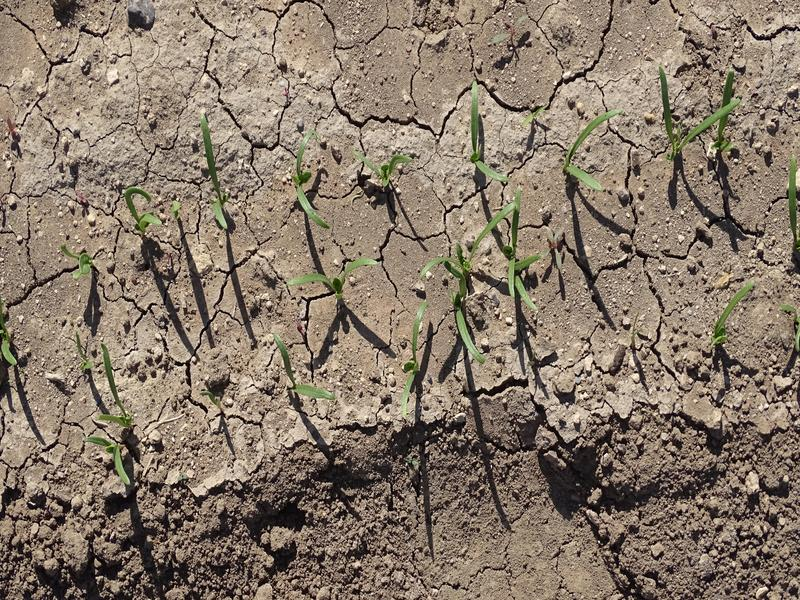Espinaca: (418, 195, 540, 303), (657, 66, 740, 155), (269, 332, 340, 408), (565, 109, 624, 193), (465, 80, 511, 186), (196, 118, 236, 233), (292, 127, 334, 232), (286, 254, 382, 299), (706, 281, 756, 346), (93, 348, 134, 426), (398, 302, 428, 408), (83, 432, 139, 486), (119, 185, 168, 242), (452, 306, 489, 363), (63, 244, 99, 279), (1, 333, 21, 368)
